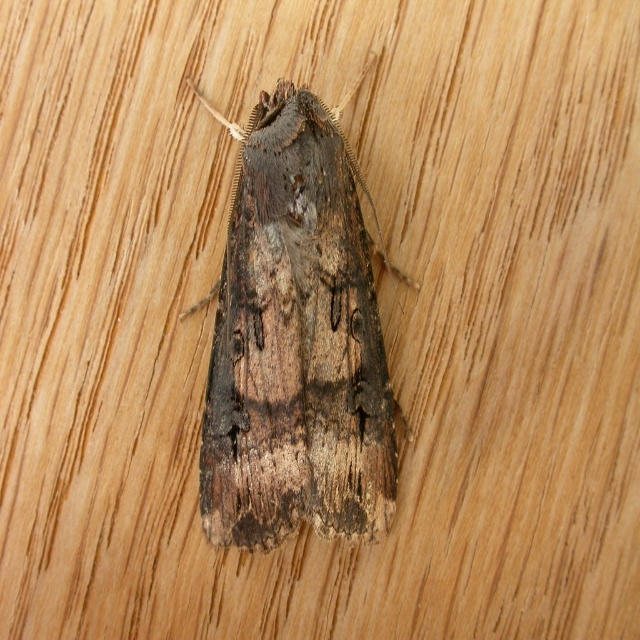Moths and butterflies: (175, 49, 423, 561)
